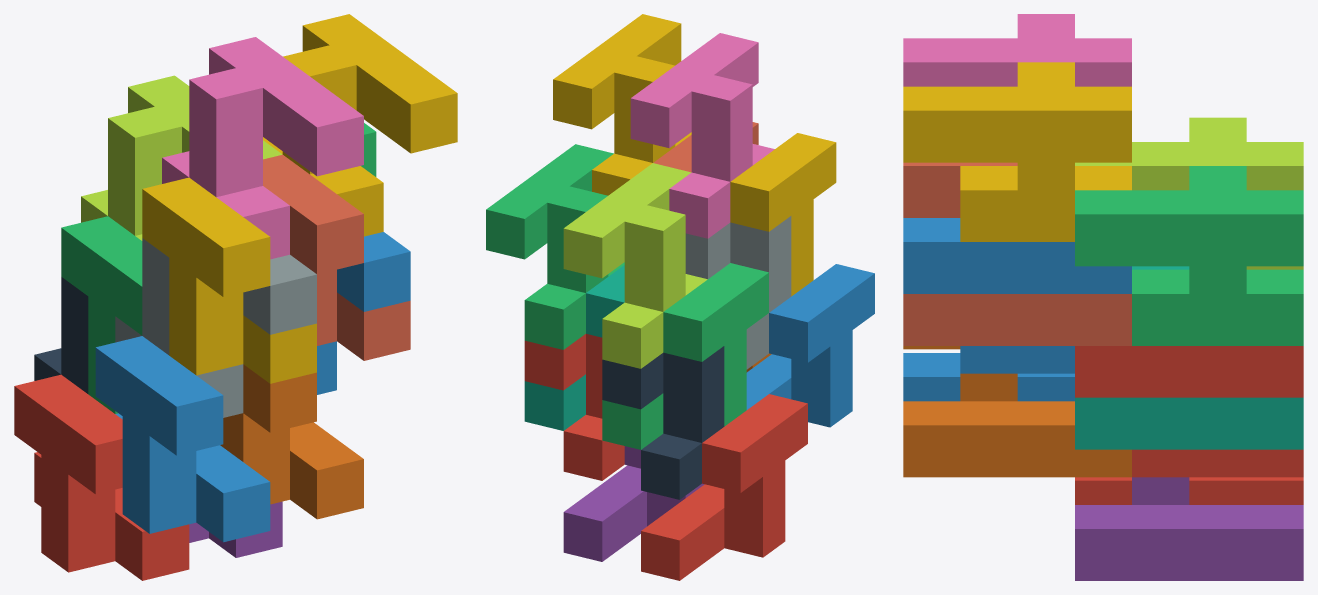
File: tiling.obj
The picture shows the model from 3 angles, left to right: view 1: azimuth 30°, elevation 25°; view 2: azimuth 150°, elevation 25°; view 3: azimuth 270°, elevation 25°; orthographic projection. The views are drawn at different scales.
Parts seen in each view (by area): view 1: copy_1_domain_2, copy_2_domain_4, copy_1_domain_4, copy_1_domain_1, copy_2_domain_8, copy_1_domain_6, copy_1_domain_8, copy_2_domain_3, copy_2_domain_2, copy_1_domain_3, copy_2_domain_6, copy_2_domain_1 (+2 smaller); view 2: copy_1_domain_1, copy_2_domain_4, copy_2_domain_3, copy_1_domain_2, copy_2_domain_7, copy_2_domain_8, copy_1_domain_3, copy_2_domain_1, copy_1_domain_4, copy_2_domain_5, copy_1_domain_5, copy_2_domain_2 (+2 smaller); view 3: copy_2_domain_7, copy_2_domain_8, copy_1_domain_5, copy_2_domain_5, copy_1_domain_6, copy_1_domain_8, copy_2_domain_6, copy_1_domain_7, copy_2_domain_4, copy_2_domain_3, copy_1_domain_1, copy_1_domain_2.
Boxes of the visible parts, x1,y1,x2,y2 form: copy_1_domain_2: (95,336,270,542); copy_2_domain_4: (162,37,363,259); copy_1_domain_4: (142,177,316,383); copy_1_domain_1: (14,374,189,580); copy_2_domain_8: (263,14,457,236); copy_1_domain_6: (220,364,363,519); copy_1_domain_8: (263,154,410,360); copy_2_domain_3: (81,75,282,240); copy_2_domain_2: (115,238,316,417); copy_1_domain_3: (61,216,142,413); copy_2_domain_6: (317,232,410,394); copy_2_domain_1: (34,277,88,393); copy_1_domain_1: (641,394,807,580); copy_2_domain_4: (630,33,774,238); copy_2_domain_3: (563,163,707,368); copy_1_domain_2: (746,264,874,427); copy_2_domain_7: (486,144,624,349); copy_2_domain_8: (553,14,691,195); copy_1_domain_3: (602,263,768,449); copy_2_domain_1: (602,346,724,499); copy_1_domain_4: (730,133,836,296); copy_2_domain_5: (524,334,624,480); copy_1_domain_5: (563,446,704,561); copy_2_domain_2: (685,216,791,369); copy_2_domain_7: (1075,166,1303,345); copy_2_domain_8: (903,62,1131,241); copy_1_domain_5: (1075,477,1303,580); copy_2_domain_5: (1075,346,1303,477); copy_1_domain_6: (903,346,1131,477); copy_1_domain_8: (903,162,1131,345); copy_2_domain_6: (903,218,1131,373); copy_1_domain_7: (1075,266,1303,449); copy_2_domain_4: (903,14,1131,86); copy_2_domain_3: (1075,117,1303,269); copy_1_domain_1: (1075,477,1303,504); copy_1_domain_2: (903,353,1074,401).
Size of the model in its own units: 6 by 10 by 7.
